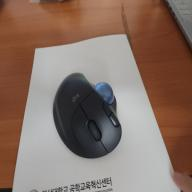mouse: (43, 58, 137, 164)
